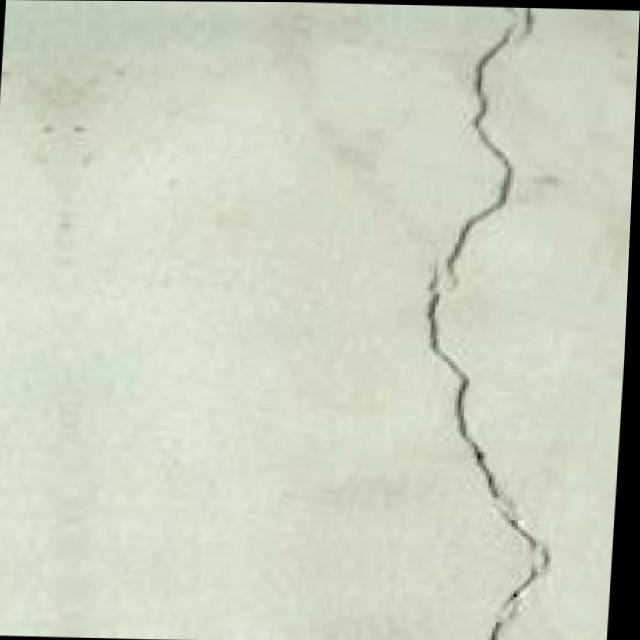Crack: (388, 4, 613, 640)
